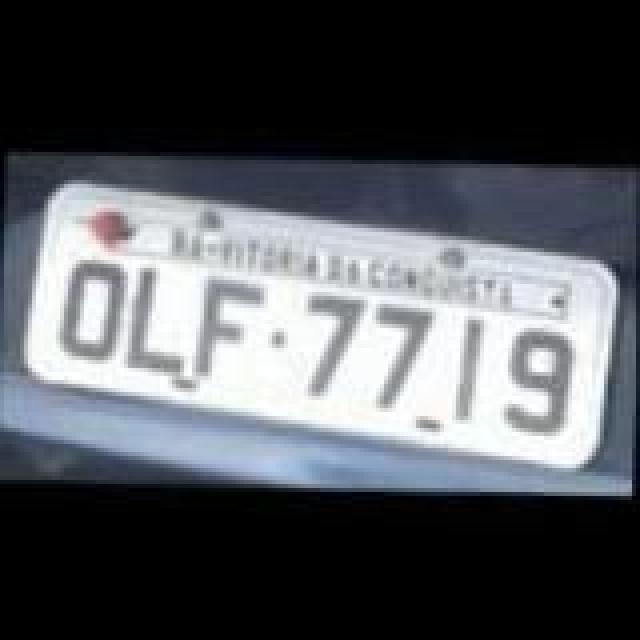1: (438, 308, 498, 428)
7: (292, 286, 376, 406), (356, 294, 436, 418)
9: (492, 318, 580, 442)
F: (188, 266, 272, 386)
L: (116, 252, 200, 376)
O: (50, 252, 130, 372)
